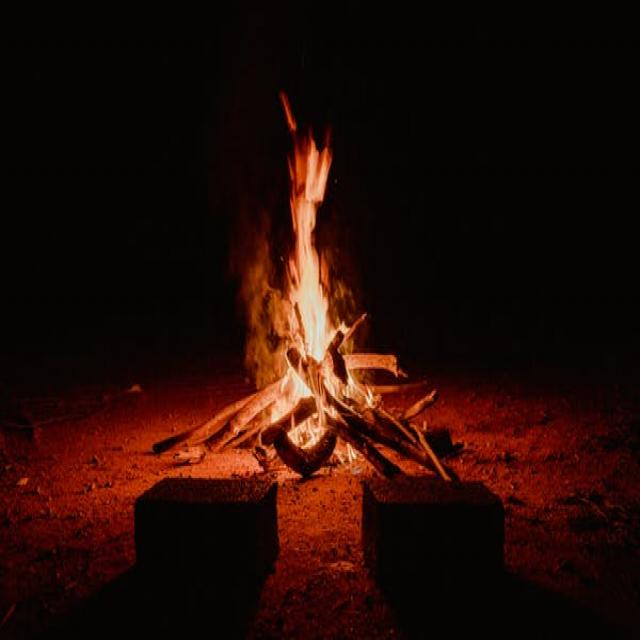fire: (241, 98, 379, 455)
